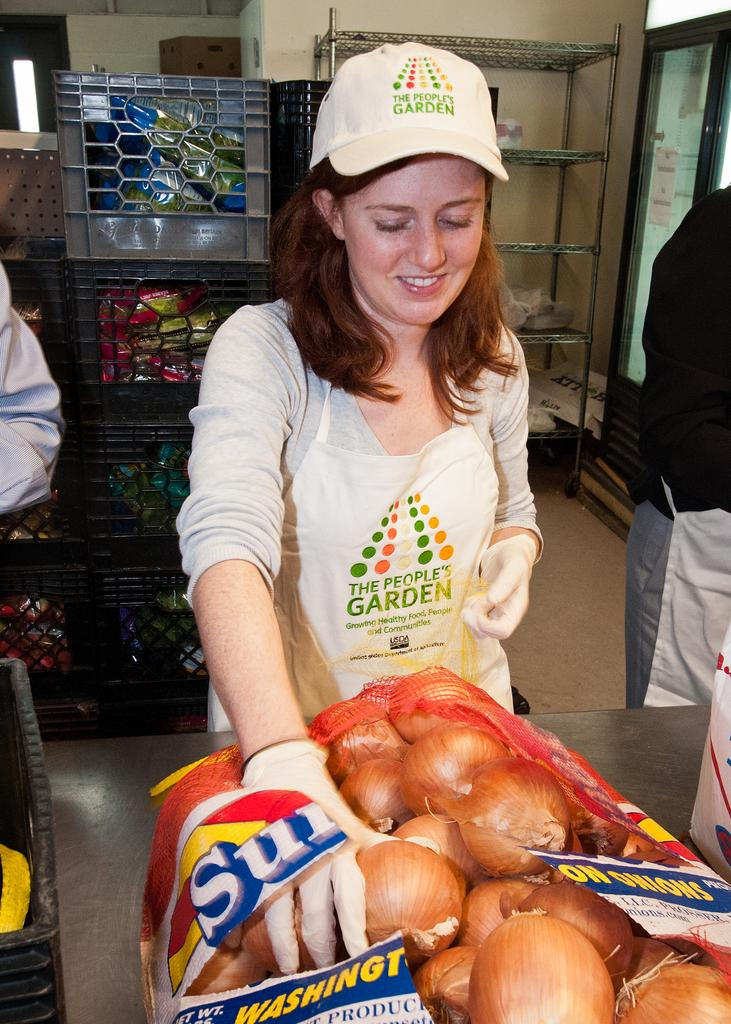Hat: (307, 37, 508, 179)
